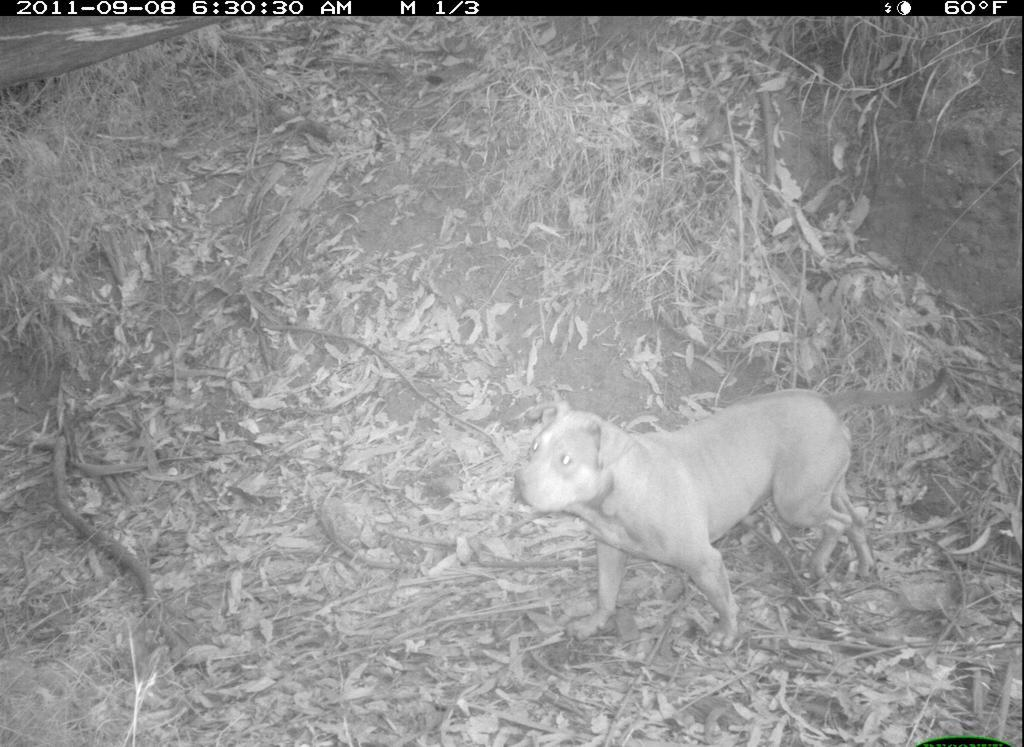dog: (510, 372, 964, 652)
